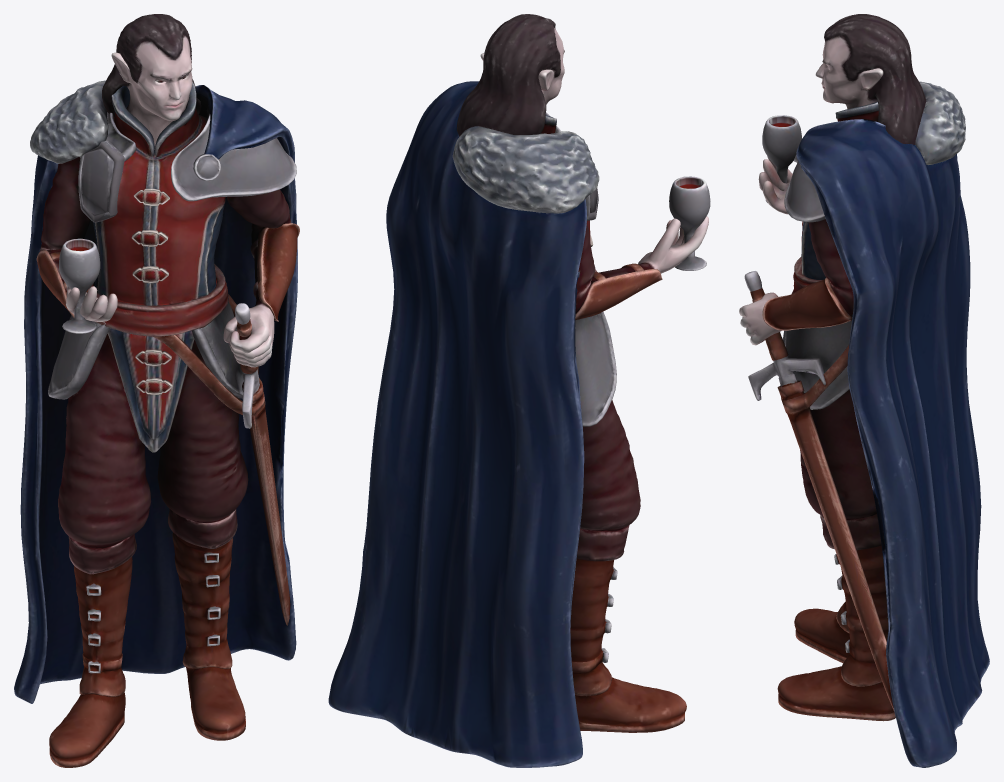
Rendered from MZ4250 - Strahd.glb.
3 renders of one model, left to right at view 1: azimuth 30°, elevation 25°; view 2: azimuth 150°, elevation 25°; view 3: azimuth 270°, elevation 25°, orthographic. The views are drawn at different scales.
Parts seen in each view (by area): view 1: strahd; view 2: strahd; view 3: strahd.
Boxes of the visible parts, left/top/right/bottom form: strahd: left=14, top=14, right=299, bottom=767; strahd: left=328, top=14, right=710, bottom=767; strahd: left=739, top=14, right=989, bottom=767.
Size of the model in its own units: 0.5281 by 1.16 by 0.3916.
1 material, 1 textured.
